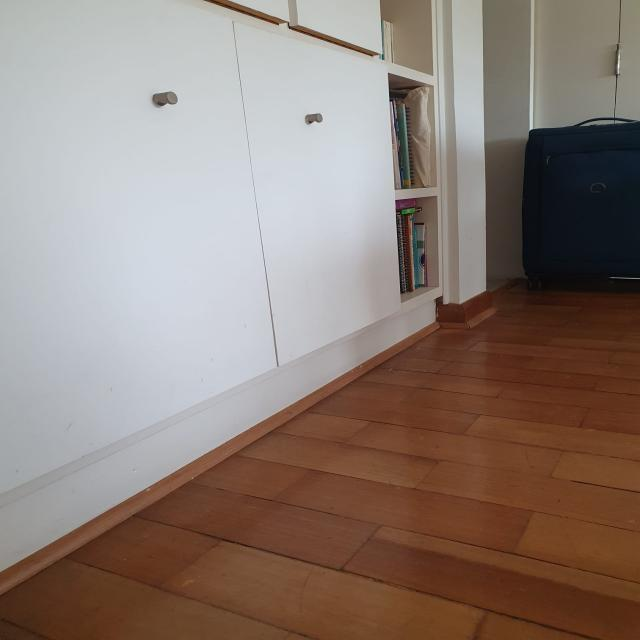Suitcase: (517, 118, 640, 282)
